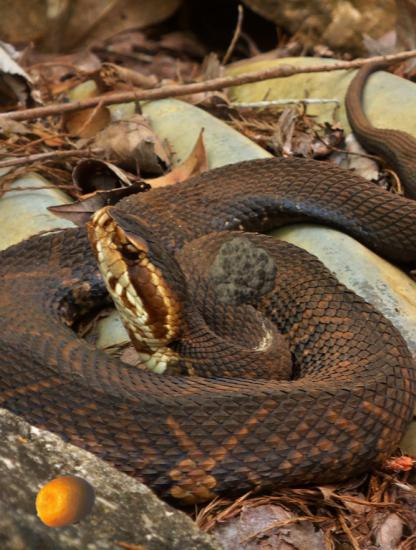Cauliflower: (209, 240, 280, 311)
Kumquats: (34, 470, 97, 533)
